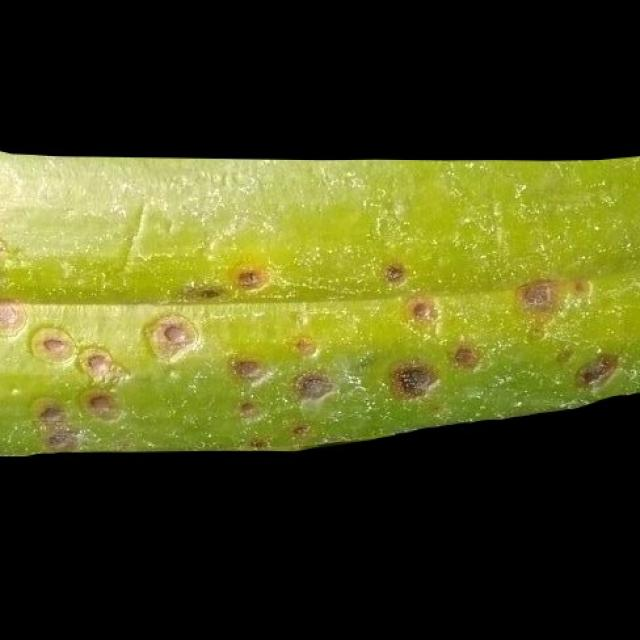mite: (144, 312, 199, 361), (28, 324, 77, 366), (573, 351, 618, 391), (76, 346, 115, 382), (292, 370, 334, 403), (80, 388, 121, 421), (517, 279, 555, 311), (404, 295, 439, 325), (232, 265, 268, 291), (228, 354, 262, 380), (450, 342, 480, 371), (382, 260, 407, 285)
